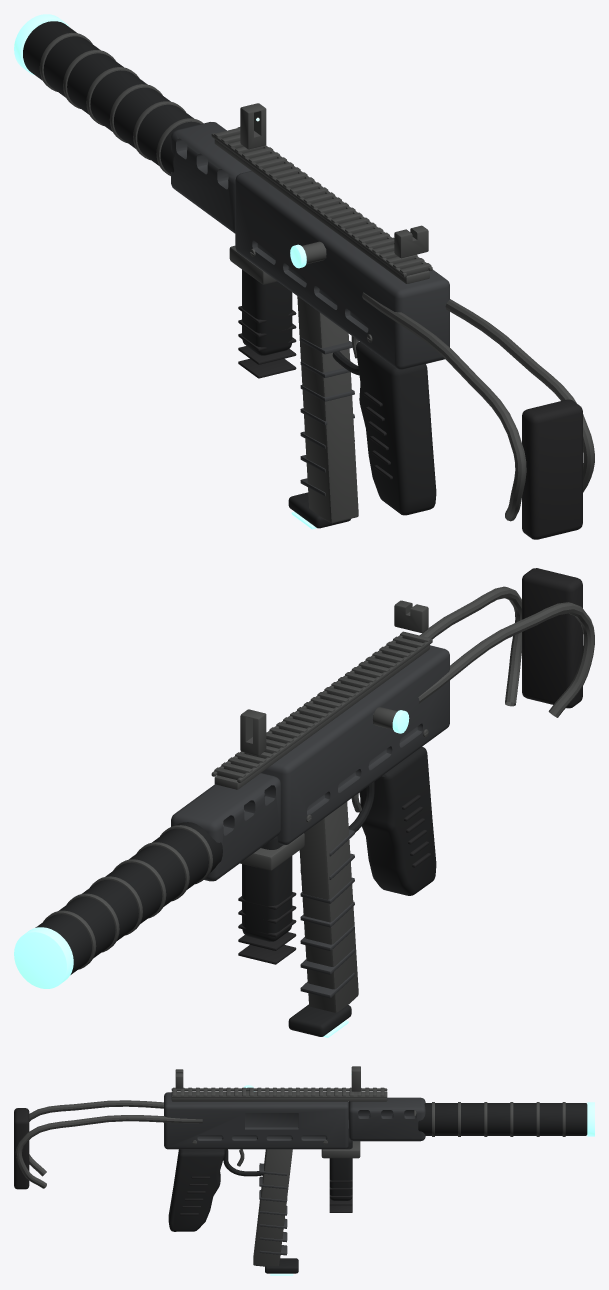
Rendered from smg.glb.
3 renders of one model, top to bottom at view 1: azimuth 30°, elevation 25°; view 2: azimuth 150°, elevation 25°; view 3: azimuth 270°, elevation 25°, orthographic. The views are drawn at different scales.
Parts seen in each view (by area): view 1: Body, Mag, Bolt; view 2: Body, Mag, Bolt; view 3: Body, Mag.
Boxes of the visible parts, x1,y1,x2,y2 form: Body: (14,14,594,539); Mag: (288,296,358,529); Bolt: (290,241,326,268); Body: (14,568,594,988); Mag: (288,802,358,1037); Bolt: (373,707,409,733); Body: (14,1066,594,1231); Mag: (253,1149,298,1275).
Size of the model in its own units: 0.0788 by 0.29 by 0.755.
